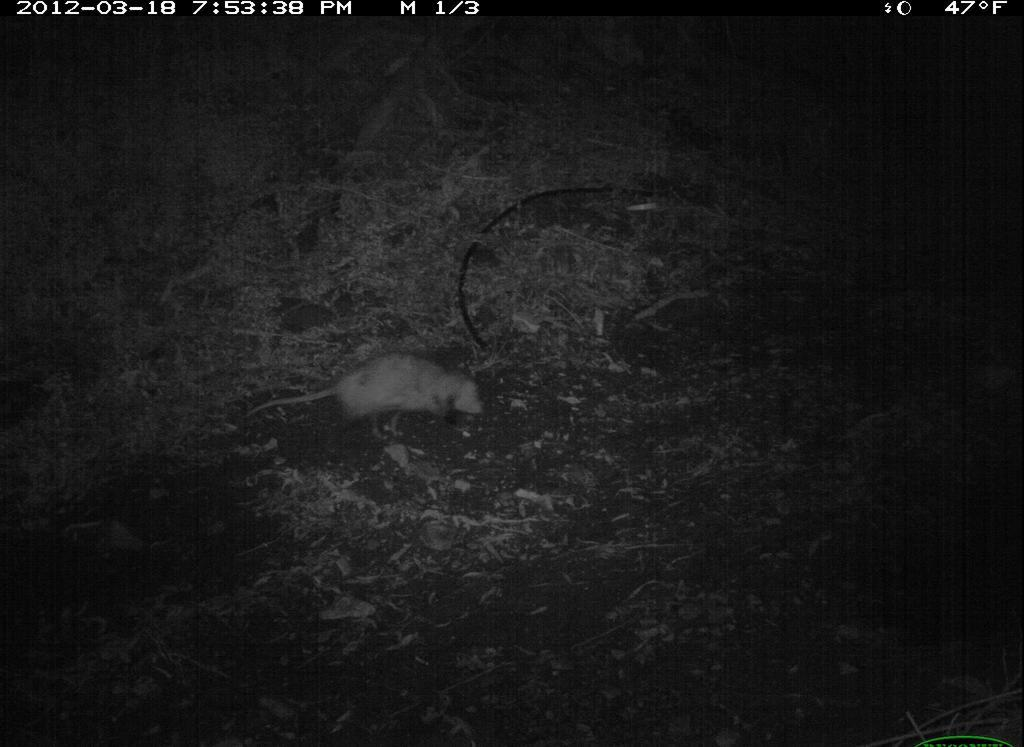opossum: (242, 341, 493, 452)
